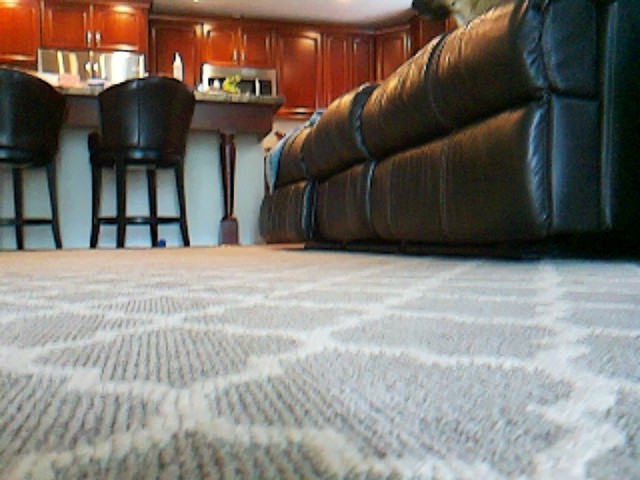Drivable Area: (1, 255, 378, 480), (378, 263, 640, 480)
Obstacle: (266, 0, 637, 255), (2, 61, 266, 247)
